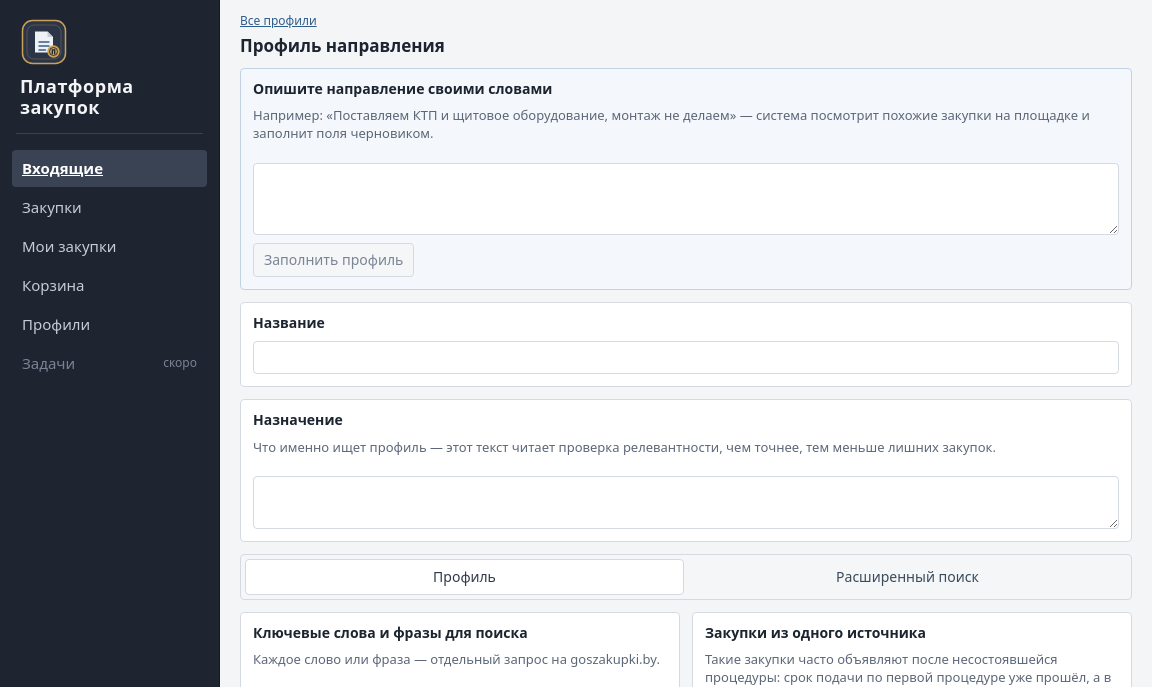
Test: ProfileApp › drafts the form from free text without saving it
Type "Поставляем КТП, монтаж не делаем" into the text box labelled "Опишите направление своими словами" at (686, 199), box [253,163,1119,235]
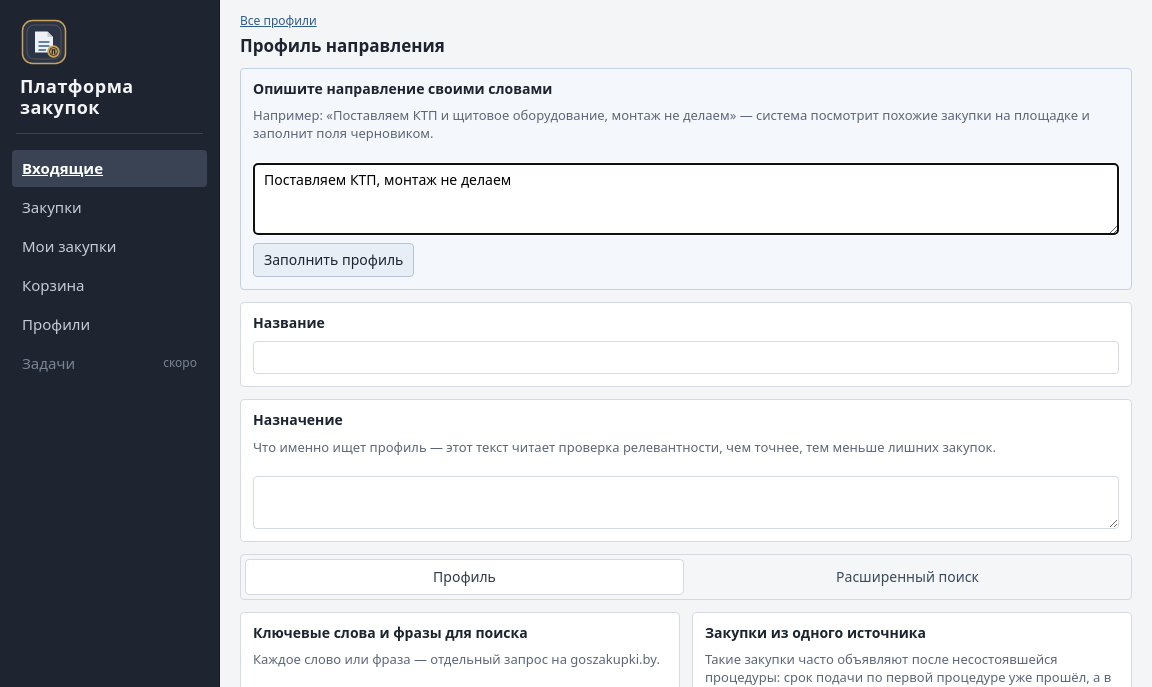
Click the button "Заполнить профиль" at (334, 260), box [253,243,414,277]
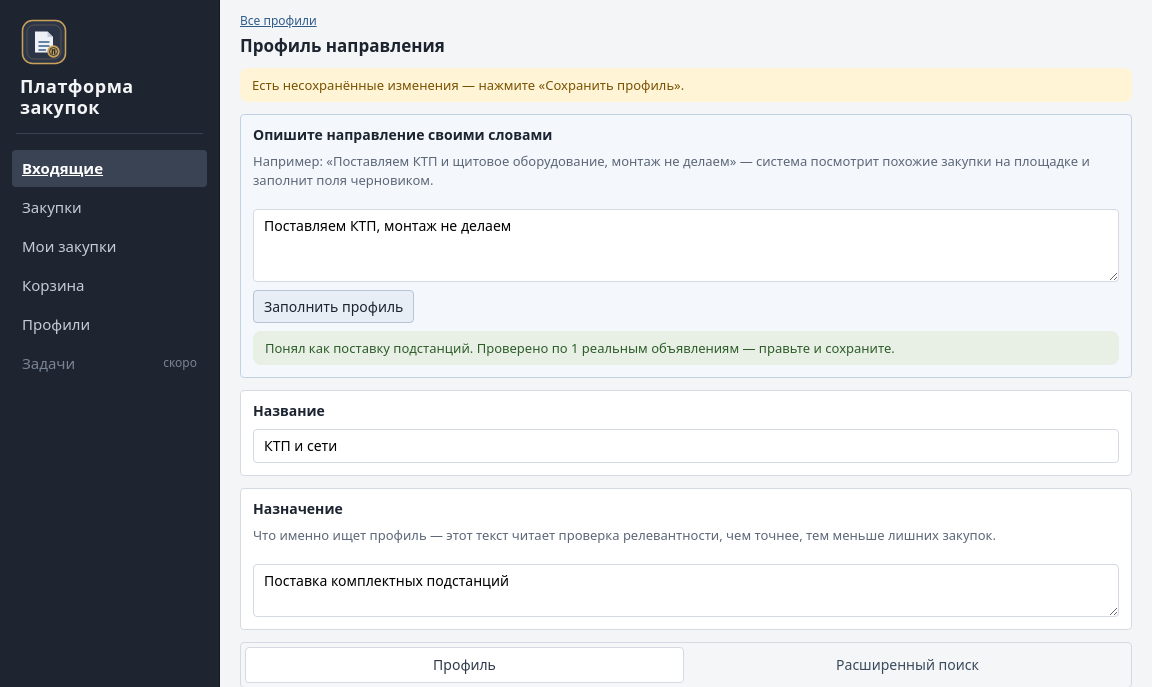
Now the field labelled "Название" holds "КТП и сети", box [253,429,1119,462]
Now the text "Проверено по 1 реальным объявлениям" is shown, box [265,339,895,357]
Now the text "Есть несохранённые изменения — нажмите «Сохранить профиль»." is shown, box [240,68,1132,102]
